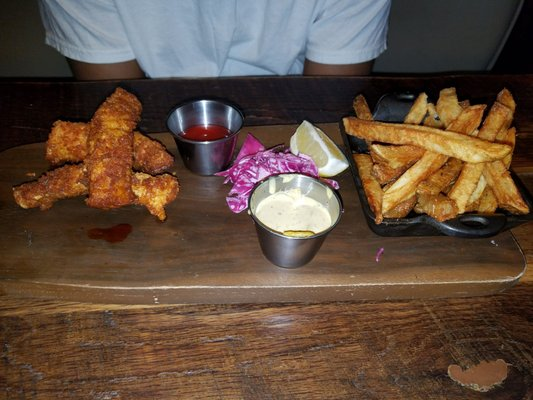soup: (369, 140, 426, 190)
sushi: (248, 173, 343, 269), (166, 98, 245, 176)
